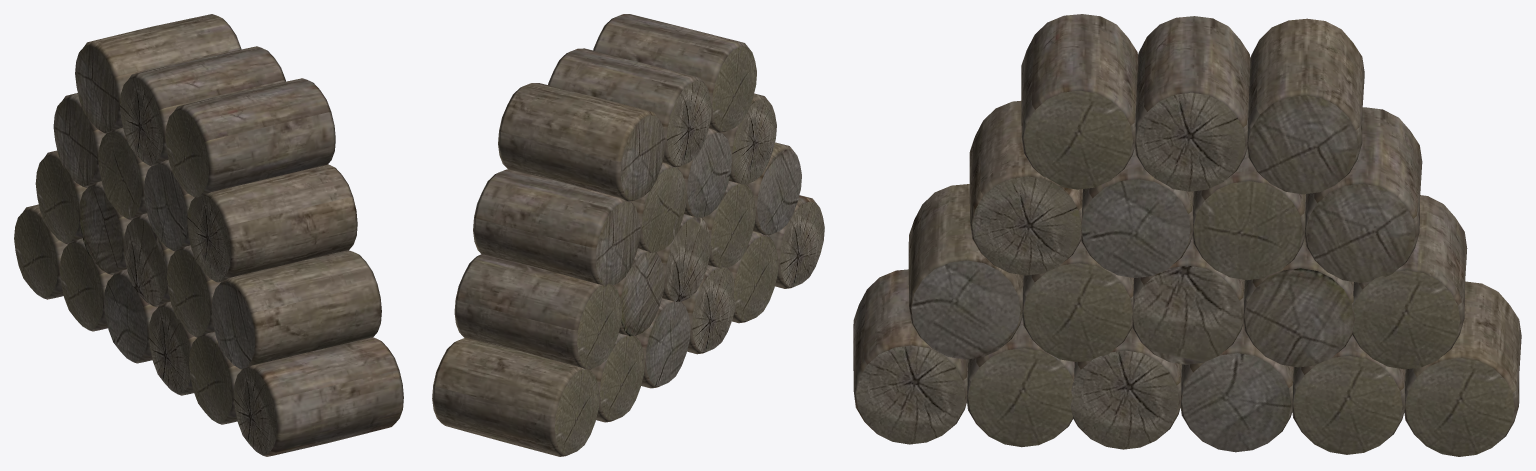
File: Wooden_Logs_Pile.glb
The picture shows the model from 3 angles, left to right: view 1: azimuth 30°, elevation 25°; view 2: azimuth 150°, elevation 25°; view 3: azimuth 270°, elevation 25°; orthographic projection. The views are drawn at different scales.
Visible parts, largest first — view 1: SM_Wooden_Logs_Pile; view 2: SM_Wooden_Logs_Pile; view 3: SM_Wooden_Logs_Pile.
Boxes of the visible parts, box(x1,y1,x2,y2) form: SM_Wooden_Logs_Pile: box(14, 14, 403, 456); SM_Wooden_Logs_Pile: box(432, 14, 824, 456); SM_Wooden_Logs_Pile: box(853, 14, 1521, 456).
Bounding box in the file's own units: 0.6207 × 1.36 × 2.22.
2 materials, 2 textured.
